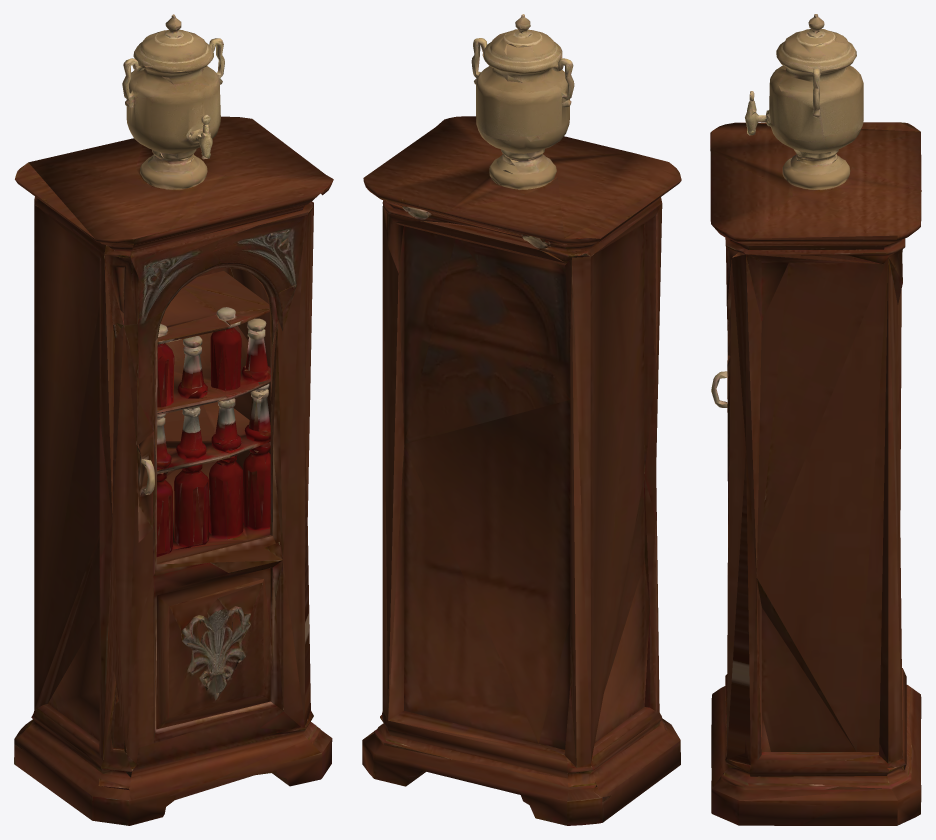
File: perk_bulwark_lh.glb
3 renders of one model, left to right at view 1: azimuth 30°, elevation 25°; view 2: azimuth 150°, elevation 25°; view 3: azimuth 270°, elevation 25°, orthographic.
Visible parts, largest first — view 1: perk_bulwark_lh; view 2: perk_bulwark_lh; view 3: perk_bulwark_lh.
Part boxes in pixels (box(x1,y1,x2,y2)): perk_bulwark_lh: box(14, 14, 333, 825); perk_bulwark_lh: box(362, 14, 681, 825); perk_bulwark_lh: box(710, 14, 921, 825).
Bounding box in the file's own units: 0.7038 × 2.1 × 0.533.
Materials: 1 (1 with a texture image).
